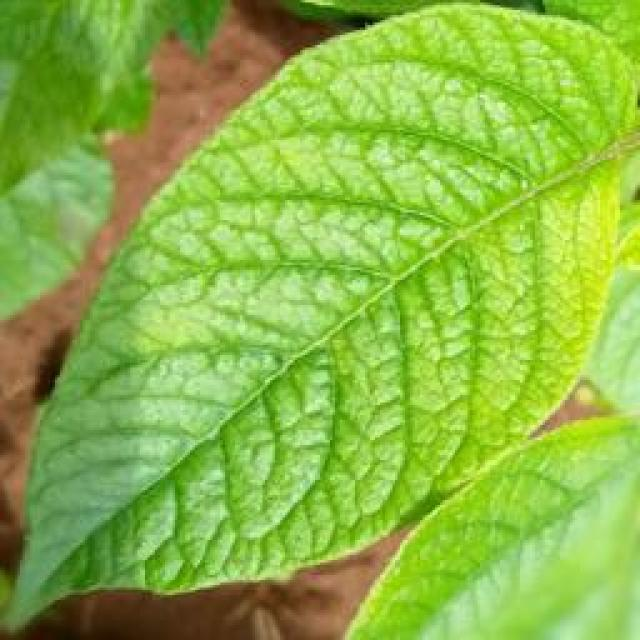healthy: (2, 0, 637, 632)
